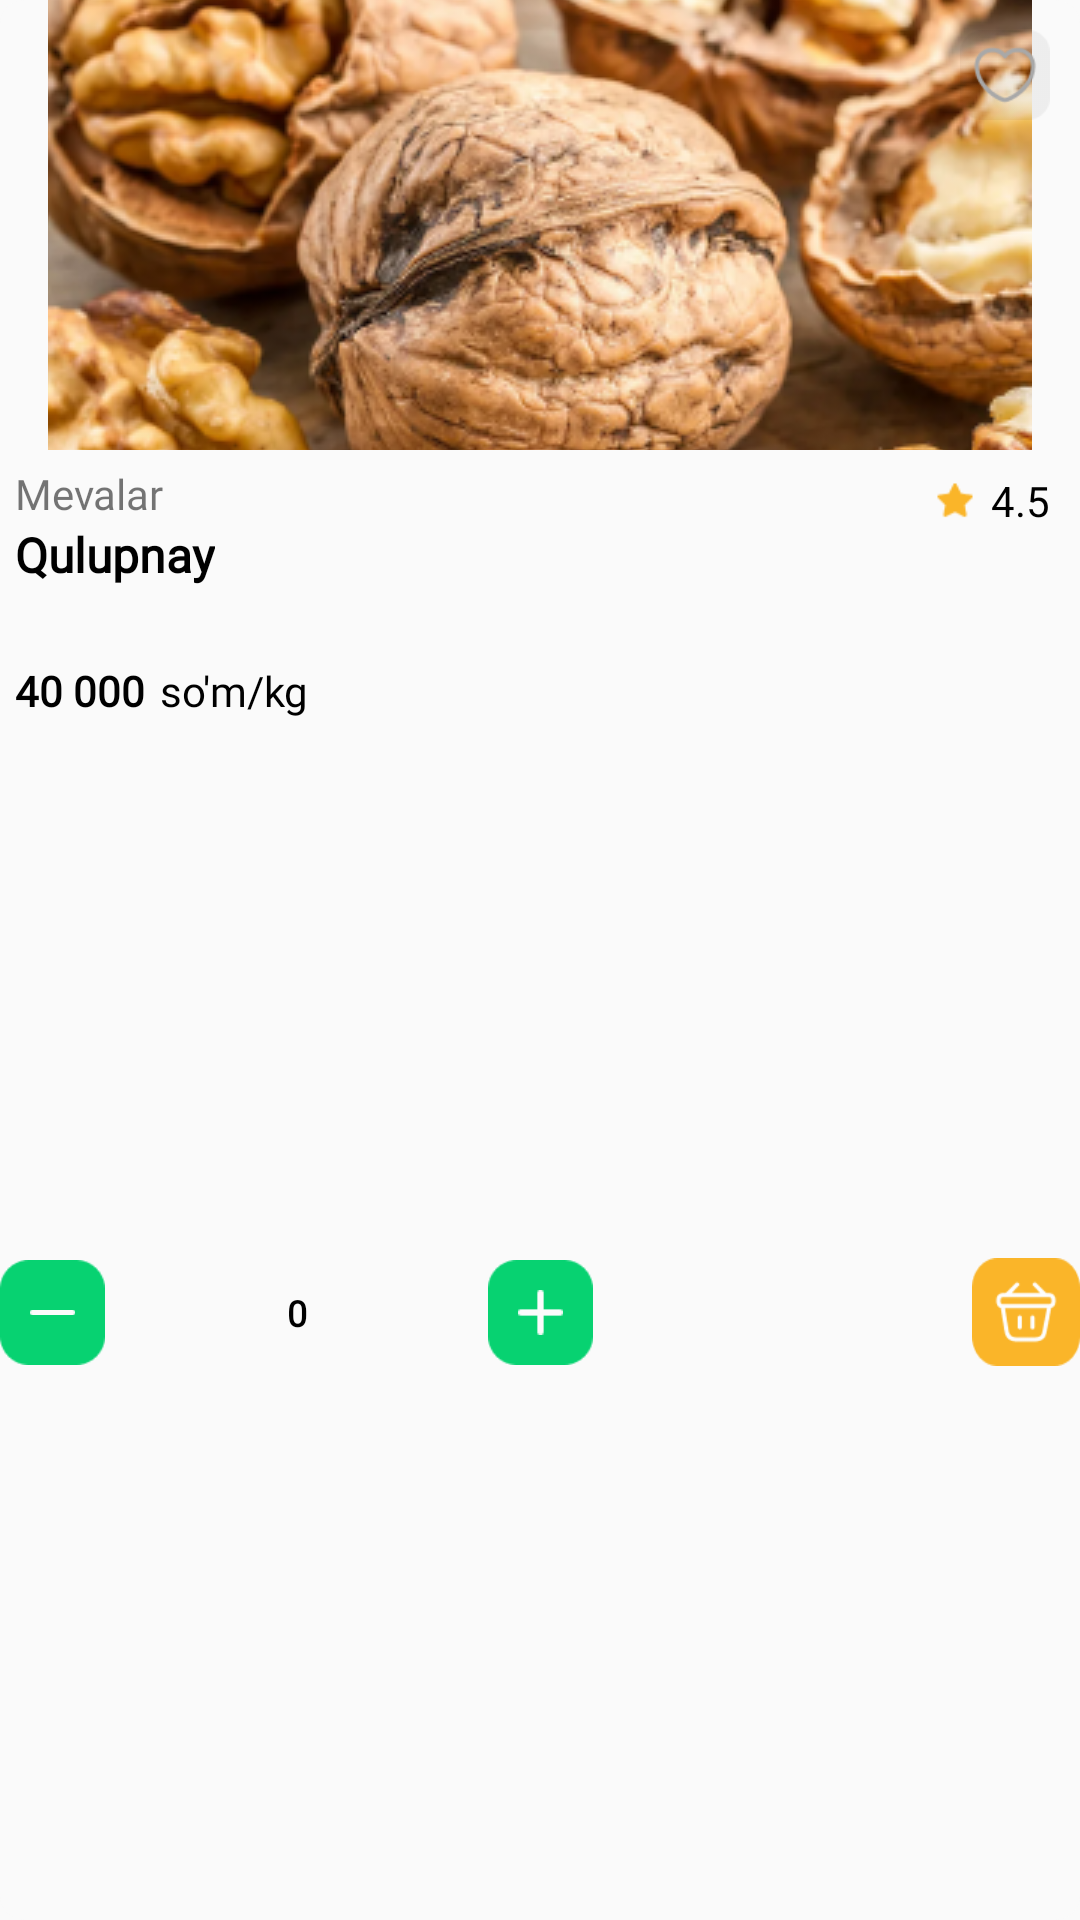

Named icons in this screenshot (1080×1920) and their centers, (x=x, y=y):
minus: (x=52, y=1312)
plus: (x=540, y=1312)
savat: (x=1026, y=1312)
star: (x=955, y=500)
